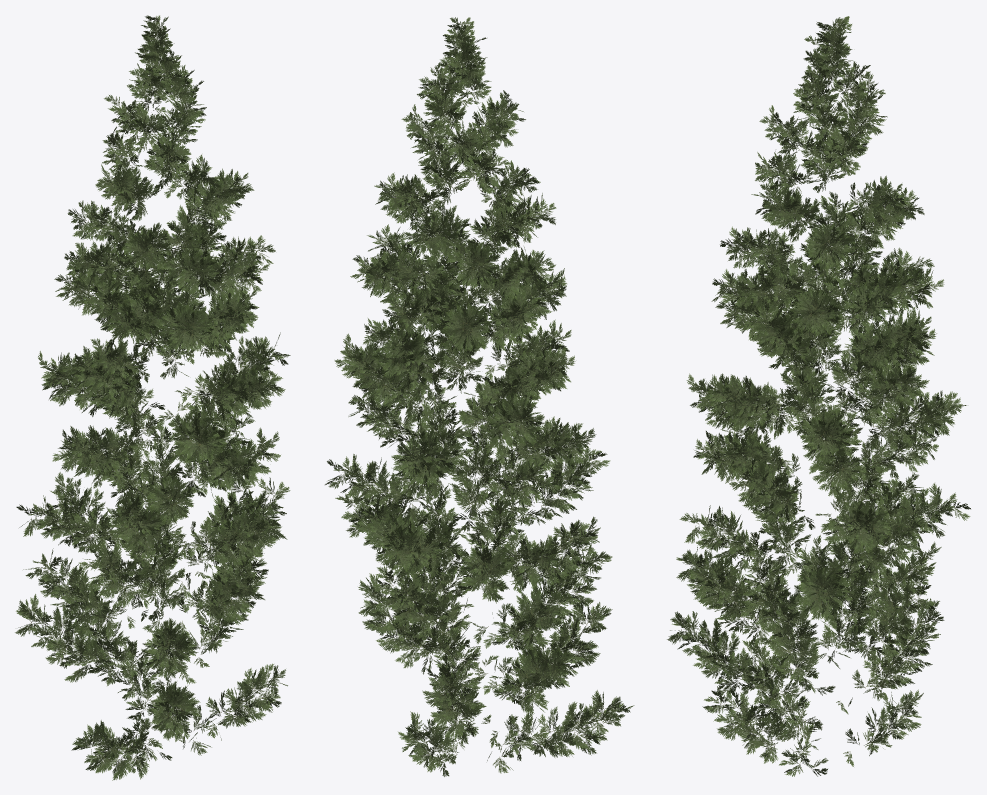
File: MESH_CL04_CalocedrusDecurrens_M_LOD1.fbx
The picture shows the model from 3 angles, left to right: view 1: azimuth 30°, elevation 25°; view 2: azimuth 150°, elevation 25°; view 3: azimuth 270°, elevation 25°; orthographic projection. The views are drawn at different scales.
Visible parts, largest first — view 1: MI_LOD1_001; view 2: MI_LOD1_001; view 3: MI_LOD1_001.
Boxes of the visible parts, <box> form: MI_LOD1_001: <box>15,15,290,780</box>; MI_LOD1_001: <box>325,17,634,776</box>; MI_LOD1_001: <box>667,16,970,776</box>.
Size of what is drawn, in the model's own units: 847 by 2355 by 868.
